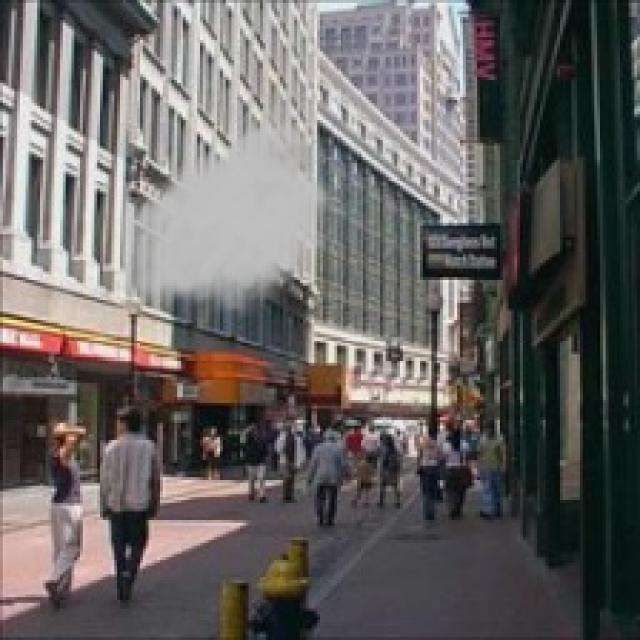Smoke: (106, 77, 340, 317)
